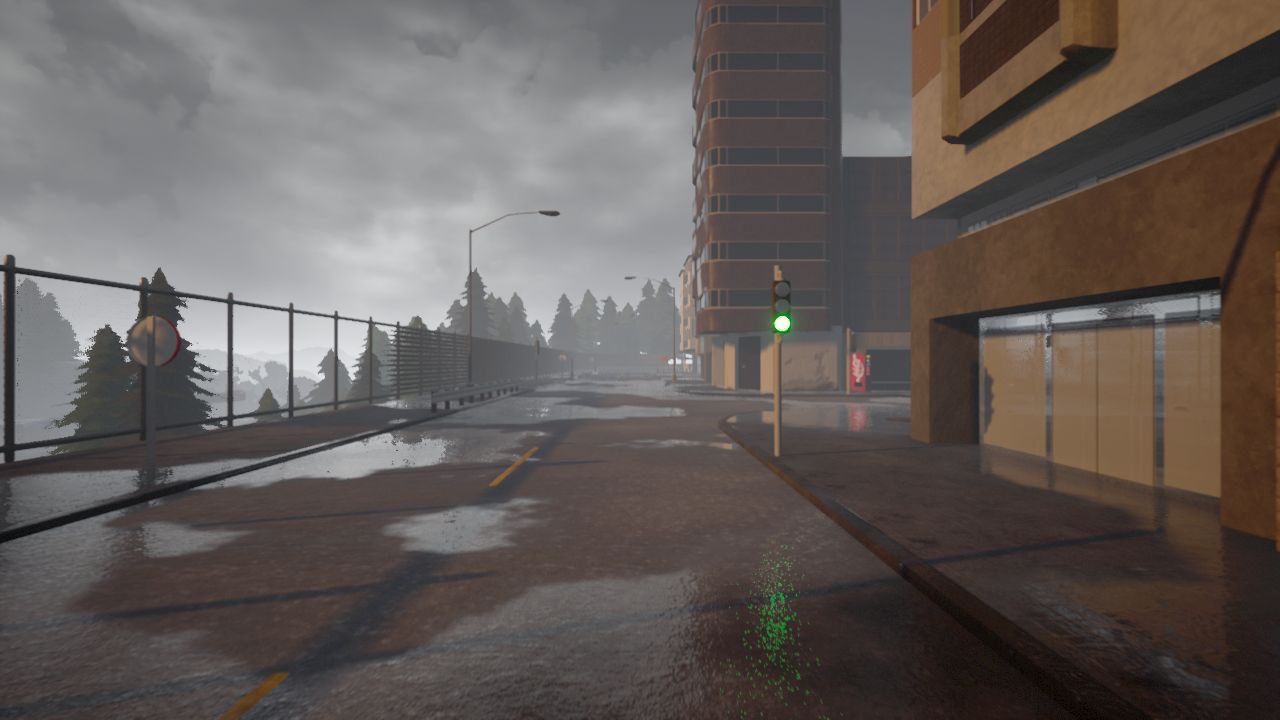green: (770, 278, 794, 334)
